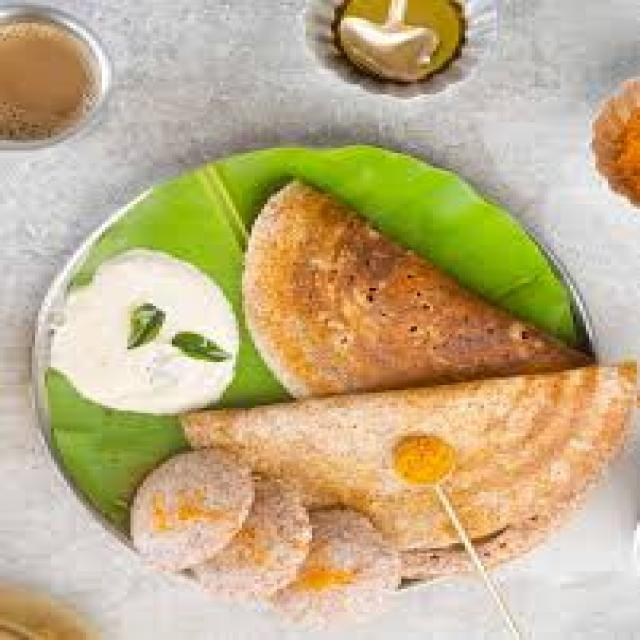DOSA: (181, 365, 637, 564), (245, 181, 583, 393)
